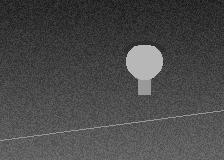no_helmet: (126, 41, 162, 84)
